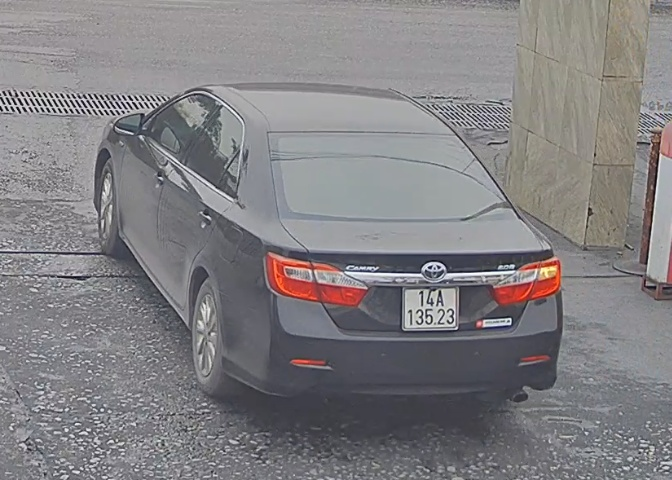vehicle plate: (398, 284, 474, 338)
